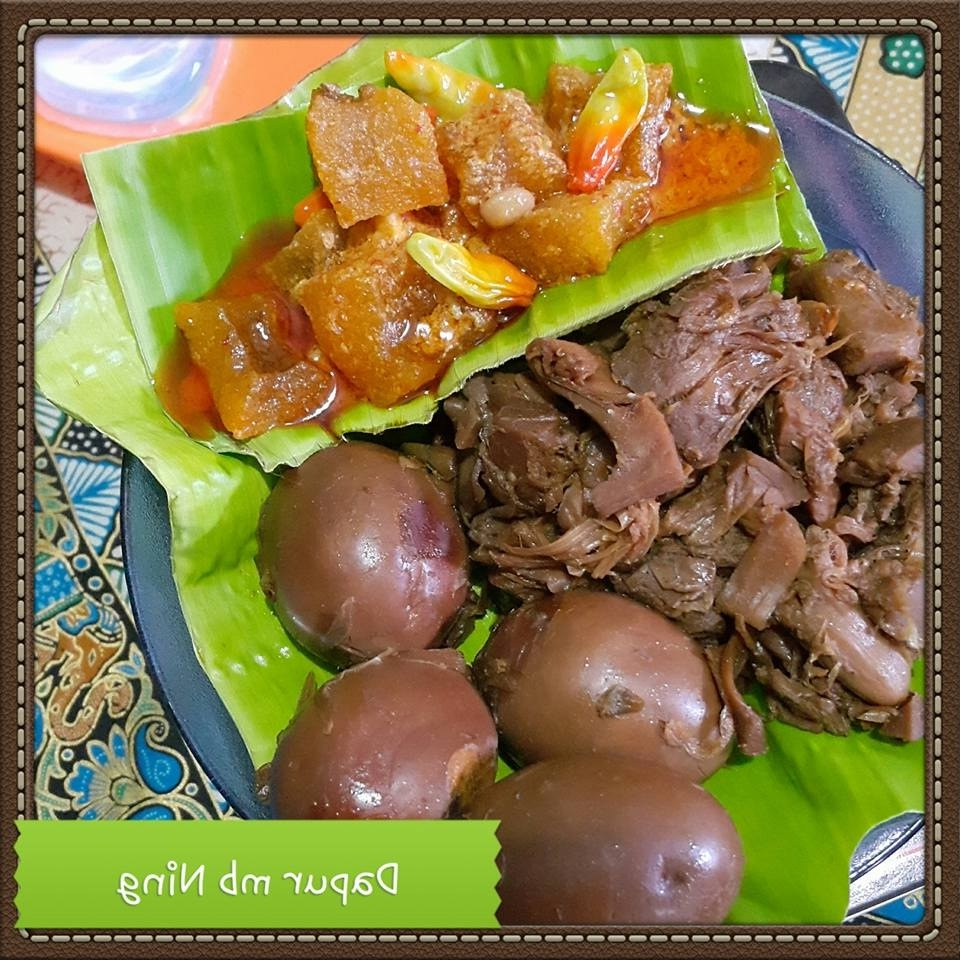gudeg: (173, 49, 919, 815)
